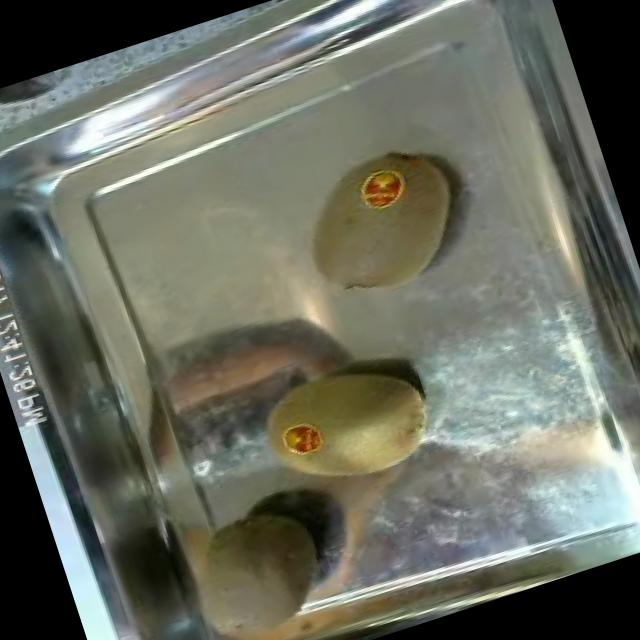Fruit: (283, 128, 488, 320), (246, 334, 454, 512), (147, 474, 366, 640), (496, 393, 636, 503)
